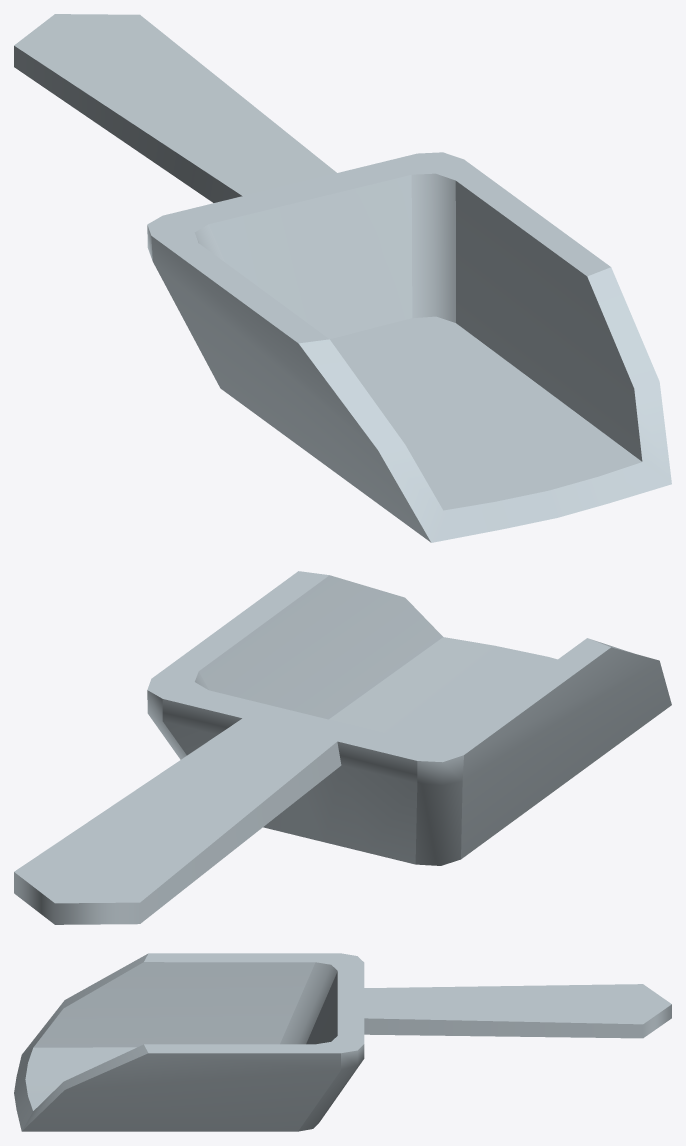
File: Scoop_geo.fbx
3 renders of one model, top to bottom at view 1: azimuth 30°, elevation 25°; view 2: azimuth 150°, elevation 25°; view 3: azimuth 270°, elevation 25°, orthographic. The views are drawn at different scales.
Visible parts, largest first — view 1: Scoop_geo; view 2: Scoop_geo; view 3: Scoop_geo.
Boxes of the visible parts, x1,y1,x2,y2 form: Scoop_geo: (14,14,671,542); Scoop_geo: (14,571,671,924); Scoop_geo: (14,953,671,1131).
Bounding box in the file's own units: 0.2994 × 0.8334 × 0.1257.
